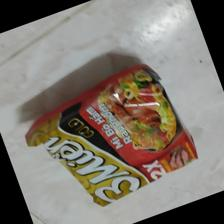3mien: (23, 63, 199, 208)
